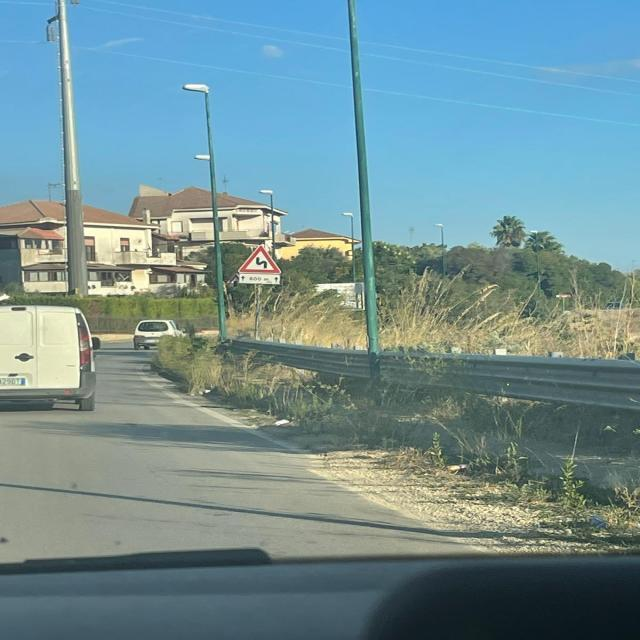warn_double_curve: (237, 244, 283, 274)
